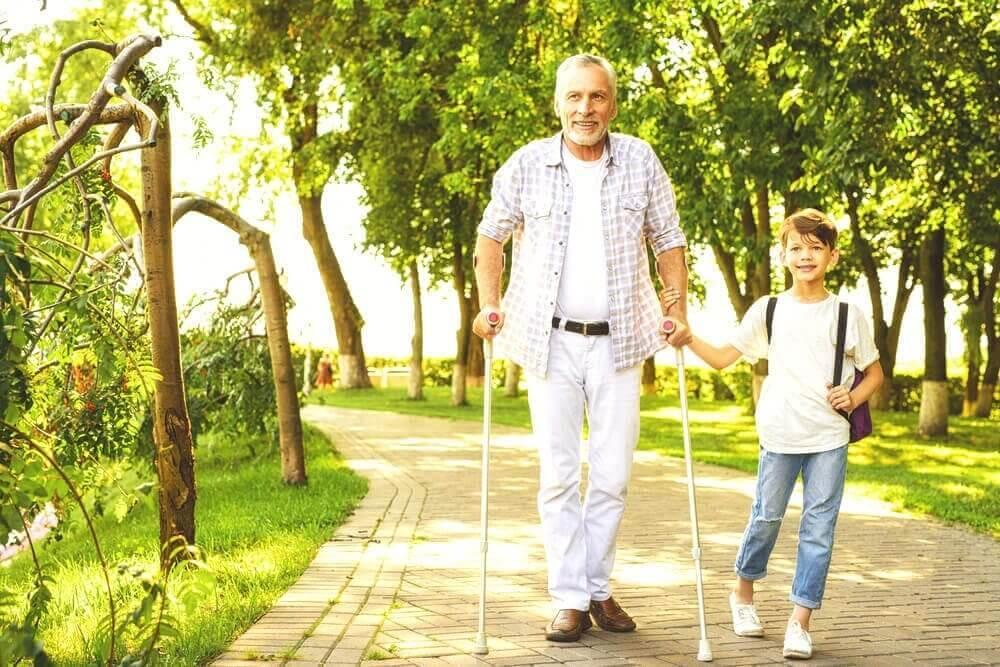crutches: (475, 54, 714, 663)
